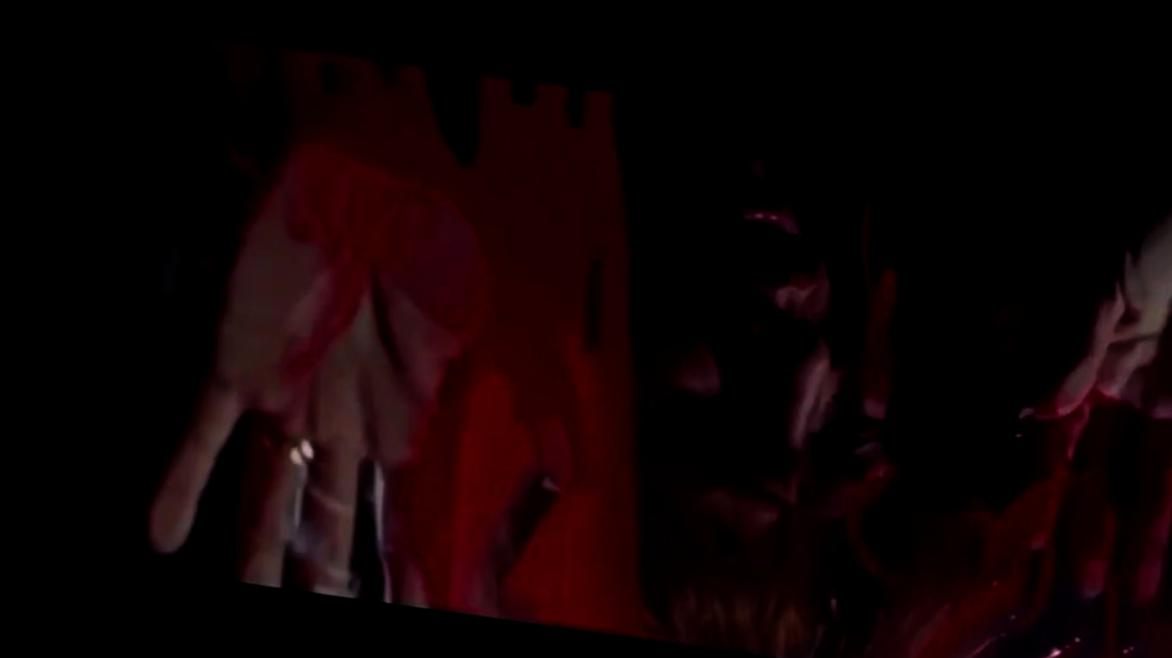Fire: (224, 45, 699, 637), (787, 359, 1172, 658)
